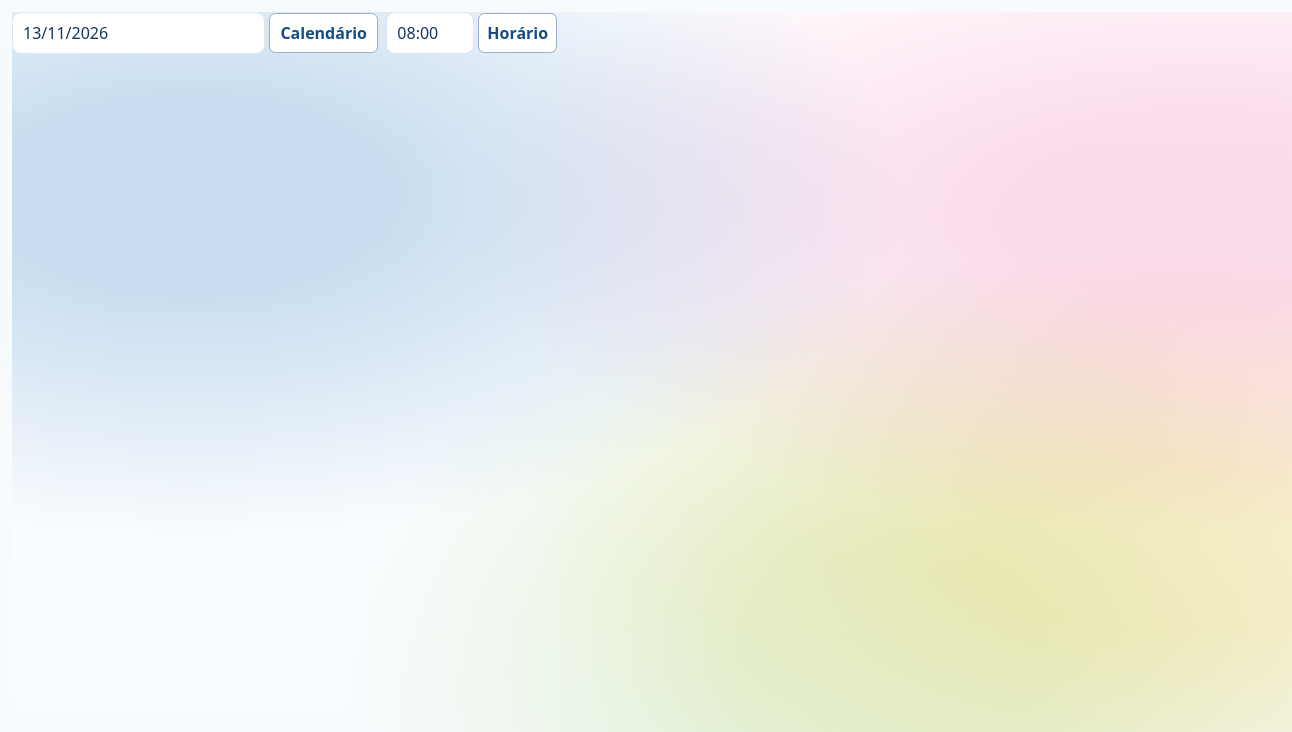
Scenario: Máscaras brasileiras sem impedir digitação ou colagem › oferece seleção opcional de qualquer hora e minuto sem limitar a digitação
The width and height of the screenshot is (1292, 732).
Click the button with aria-label "Escolher horário em 24 horas".
click(518, 33)  # box [478,13,557,53]
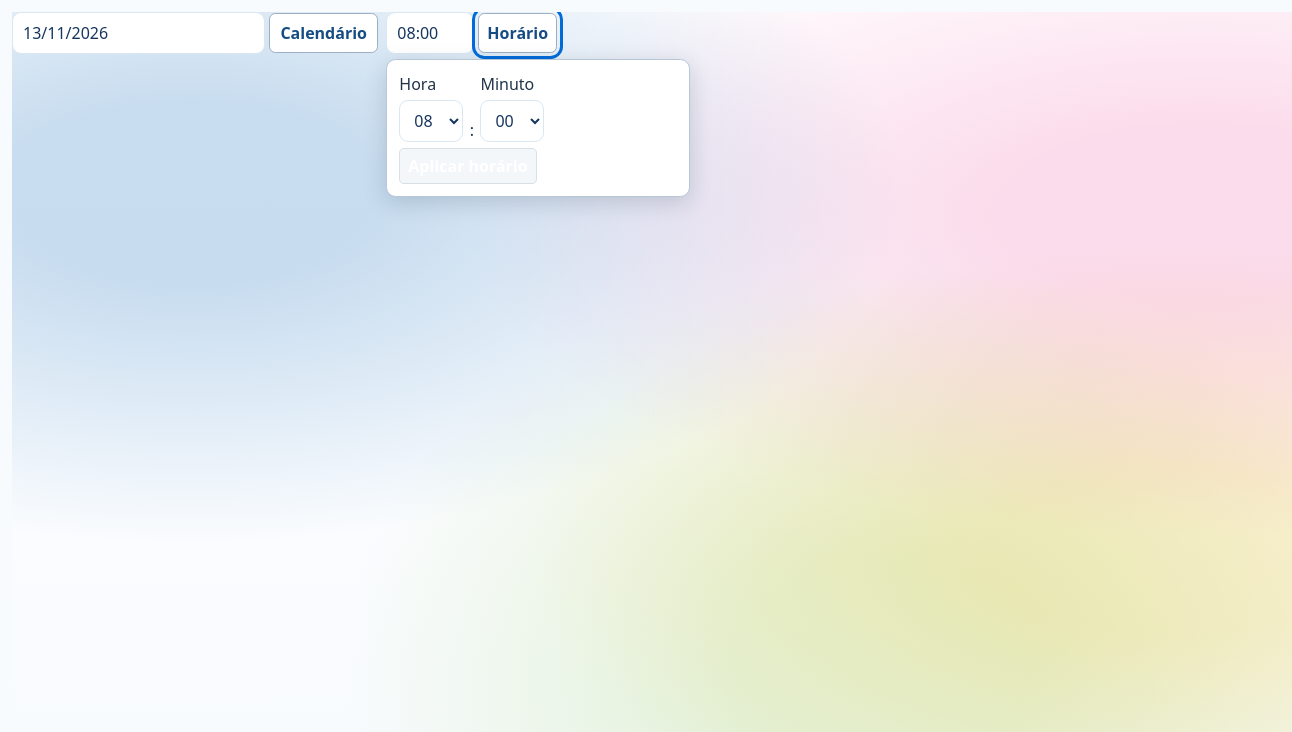
Select "23" in the dropdown labelled "Hora" at (431, 121), box [399,100,463,142]
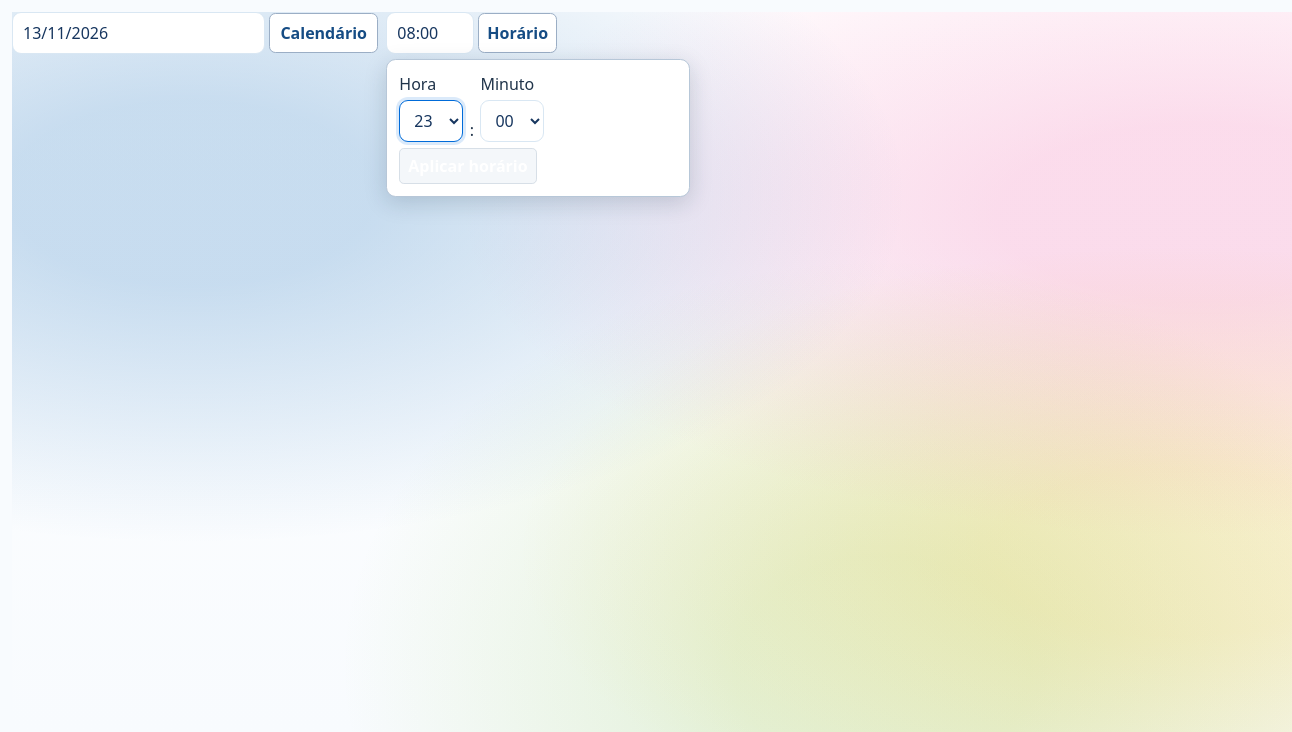
Select "59" in the dropdown labelled "Minuto" at (512, 121), box [480,100,544,142]
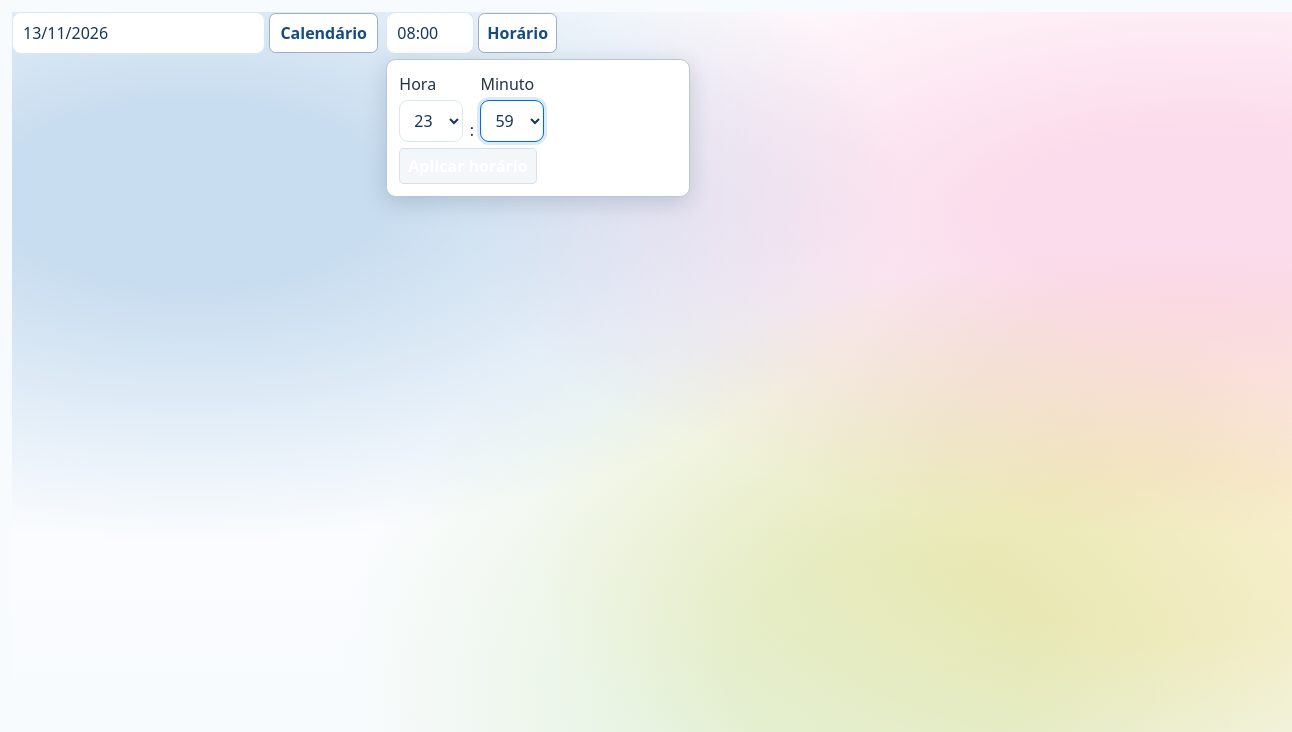
Click the button "Aplicar horário".
click(468, 166)  # box [399,148,537,184]
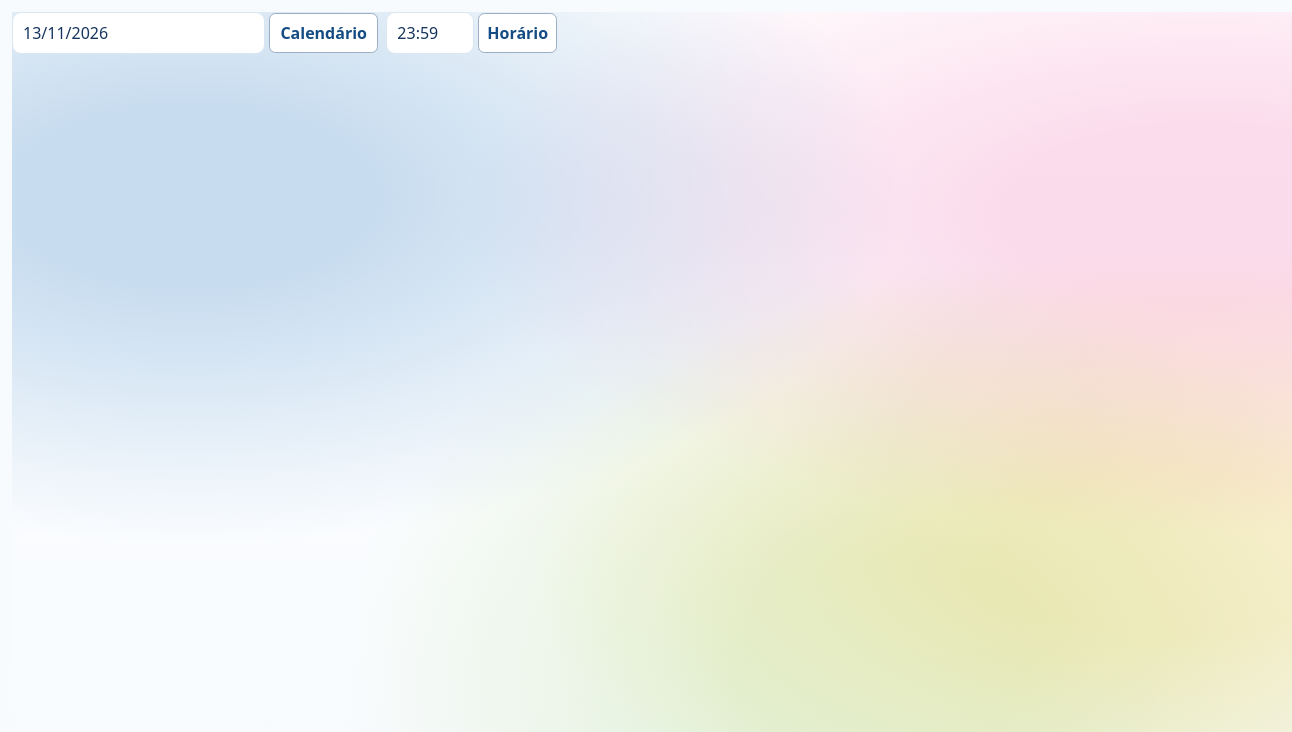
Now the field named "Horário em 24 horas" holds "23:59", box [386,12,474,54]
